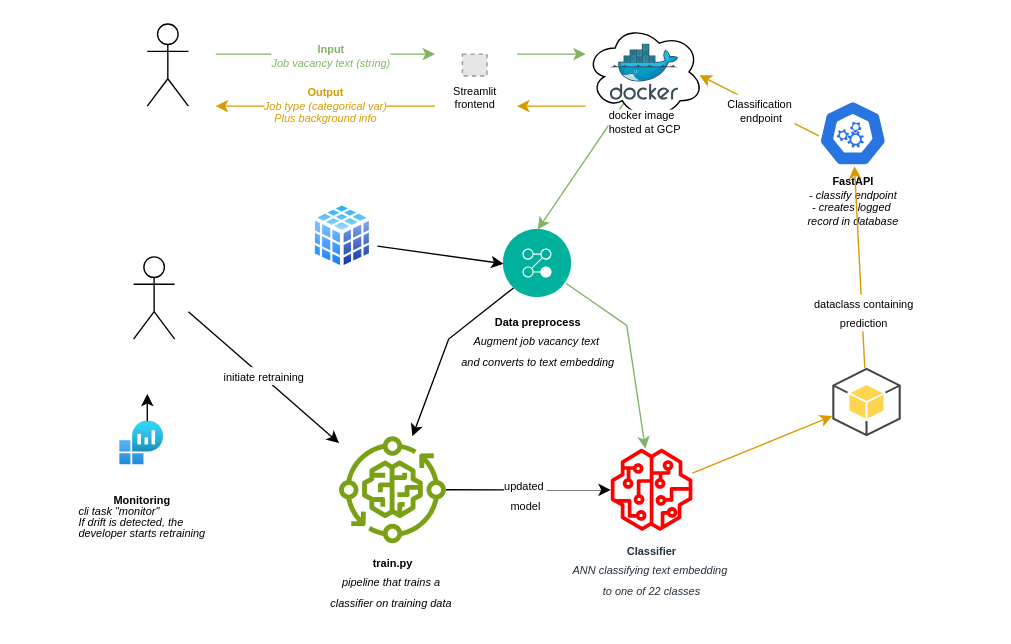
Image size: 1011x644. Some labels were removed from this diagram. Grey dashed boxes stand in for pictures. Here are the shapes that lost their labels. From the top down, the centre of each, then its label:
At (x=167, y=64): "User: Sends a job vacancy text to be classified into one of 22 job type classes".
At (x=342, y=235): "New training data magically appears".
At (x=153, y=297): "Developer: Monitors model prediciton and retrains model".
At (x=866, y=401): "inference.py runs a pipeline classifying a single jobvacancy".
